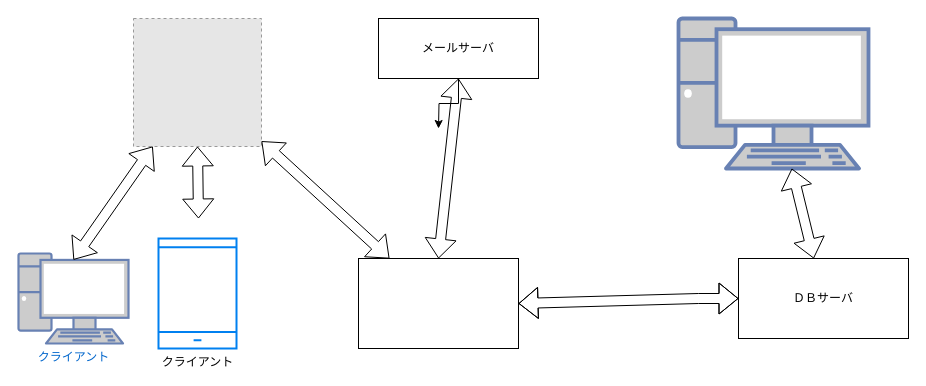
This 926x386 diagram has some shape labels left out. Grey dashed boxes stand in for pictures. Here are the shapes that lost their labels. From the top down, the centre of each, then its label:
At point 773,93: "管理者".
At point 438,303: "ウェブサーバ".
